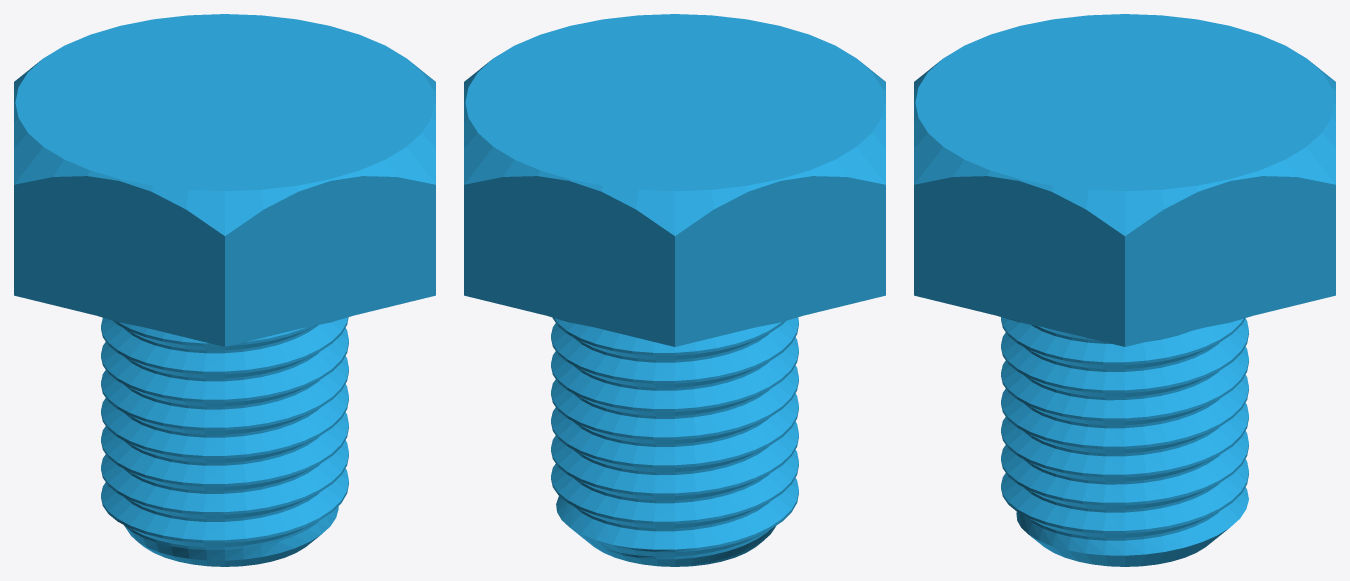
The model's file is nezi.dae.
3 renders of one model, left to right at view 1: azimuth 30°, elevation 25°; view 2: azimuth 150°, elevation 25°; view 3: azimuth 270°, elevation 25°, orthographic.
Visible parts, largest first — view 1: Bolt_001; view 2: Bolt_001; view 3: Bolt_001.
Boxes of the visible parts, <box> form: Bolt_001: <box>14,14,435,566</box>; Bolt_001: <box>464,14,885,566</box>; Bolt_001: <box>914,14,1335,566</box>.
Size of the model in its own units: 1.96 by 1.7 by 1.89.
